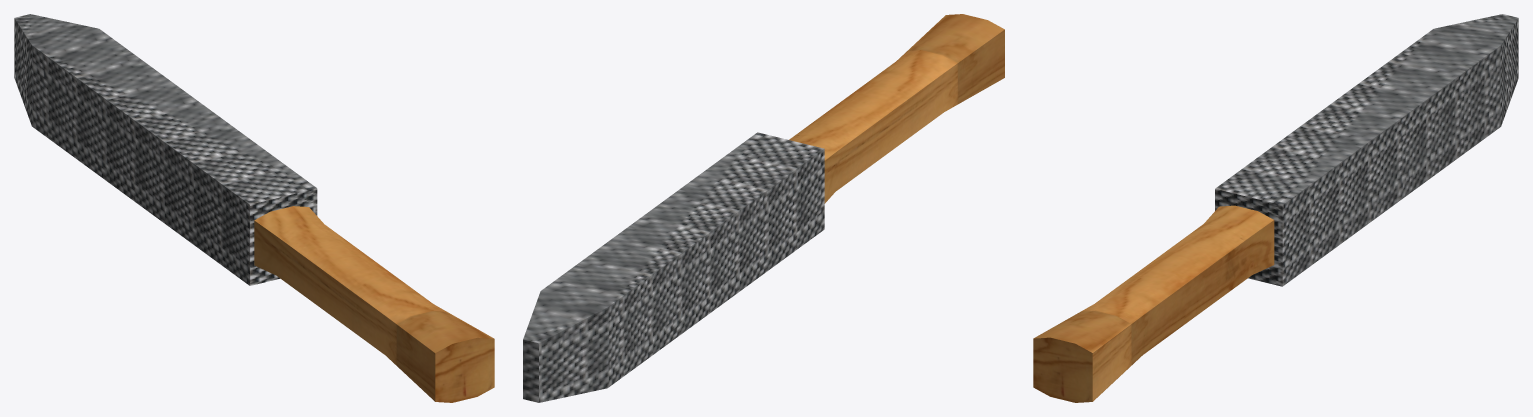
The picture shows the model from 3 angles, left to right: view 1: azimuth 30°, elevation 25°; view 2: azimuth 150°, elevation 25°; view 3: azimuth 330°, elevation 25°; orthographic projection.
Parts seen in each view (by area): view 1: file; view 2: file; view 3: file.
Boxes of the visible parts, bbox=[...] form: file: bbox=[14, 14, 494, 402]; file: bbox=[523, 14, 1004, 402]; file: bbox=[1033, 14, 1518, 402].
Bounding box in the file's own units: 6.69 × 76.44 × 7.71.
